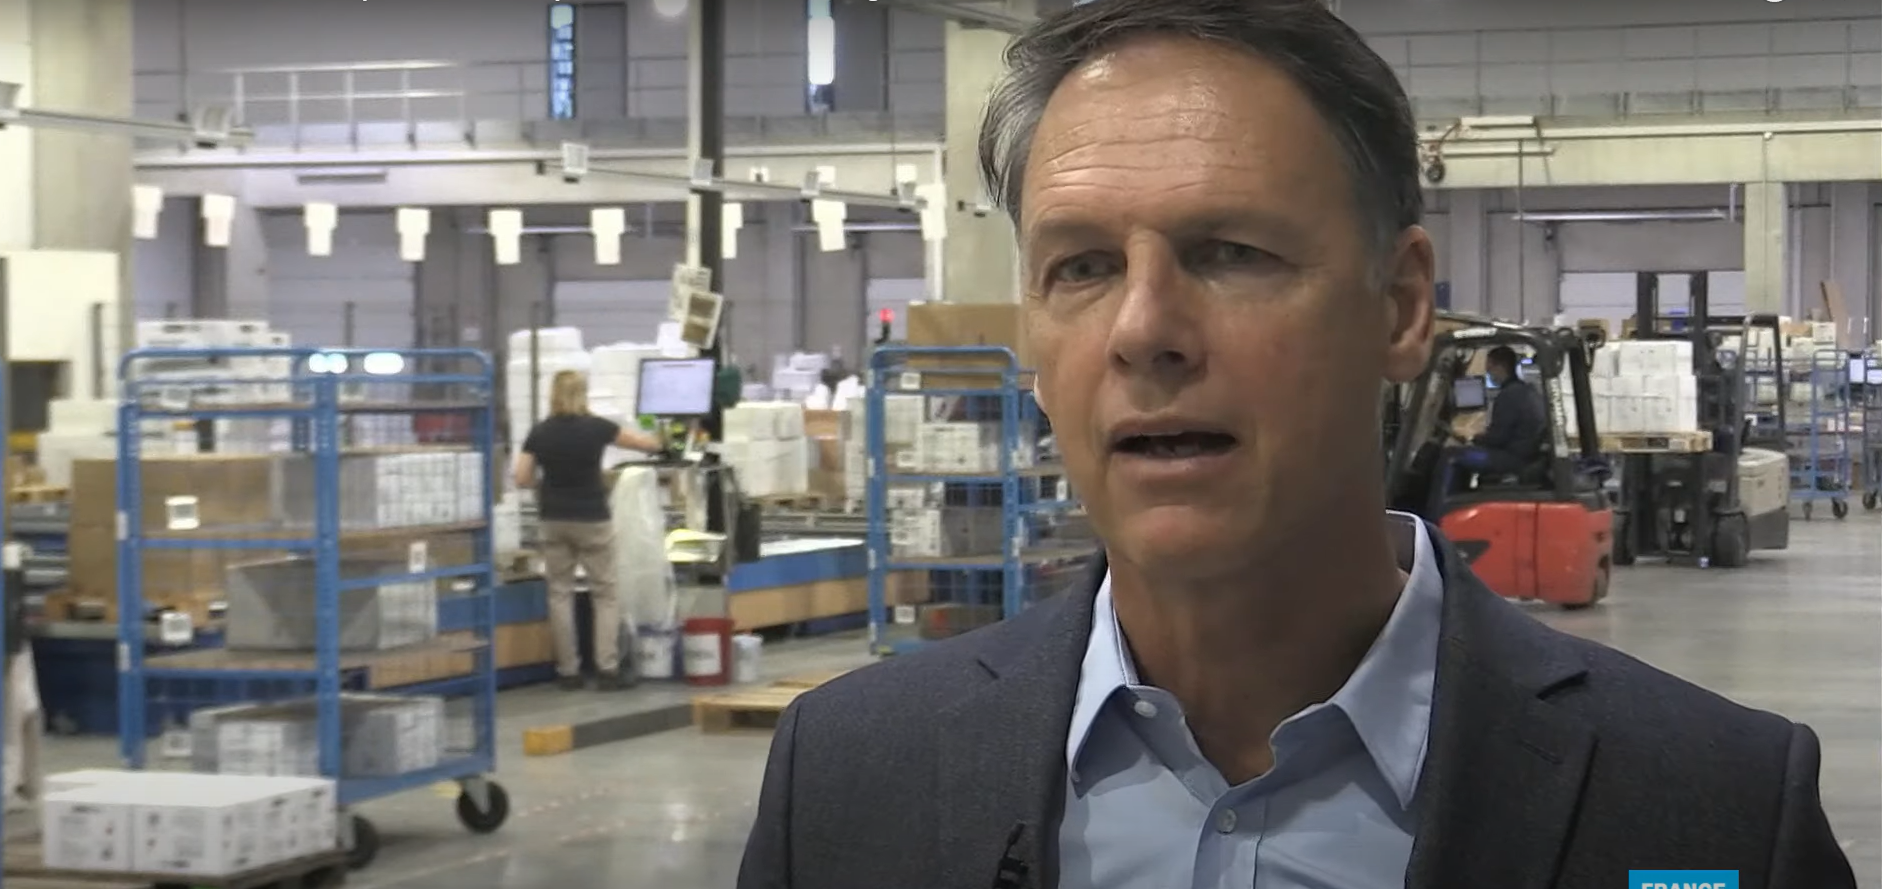without_mask: (1051, 175, 1355, 487)
